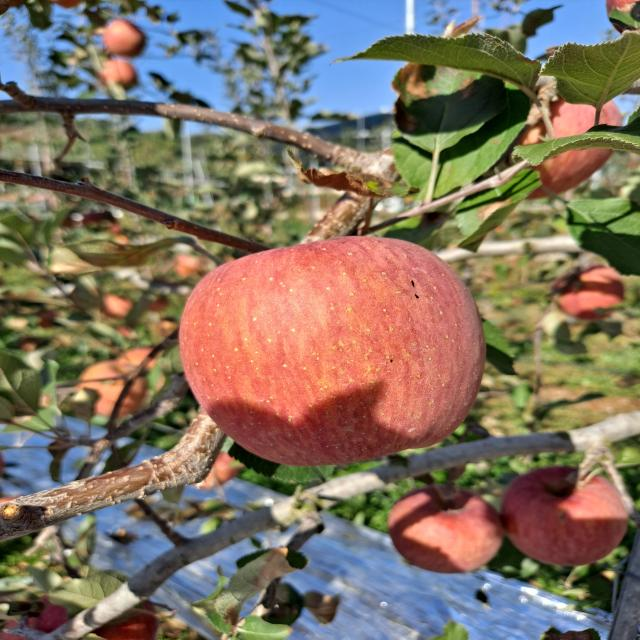fresh: (170, 227, 493, 473)
